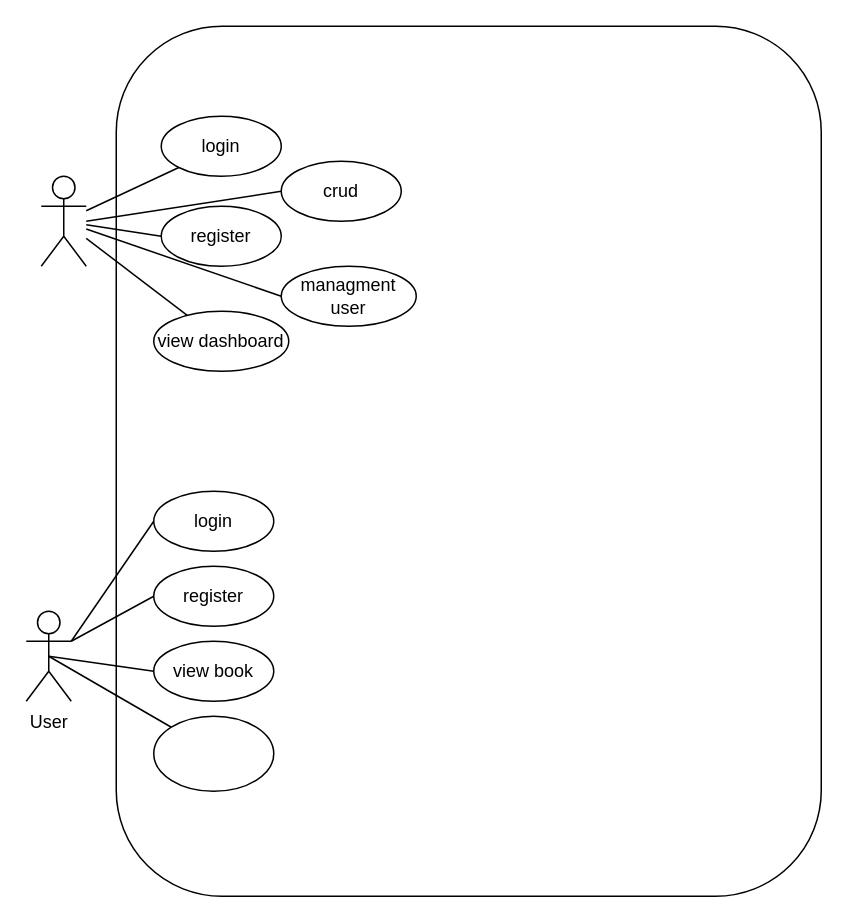
Image size: 848x923. Some labels were removed from this diagram. Here are the shapes that lost their labels. From the top down, the centre of each, then its label:
At (x=63, y=220): "Admin".
At (x=213, y=753): "view details book".
